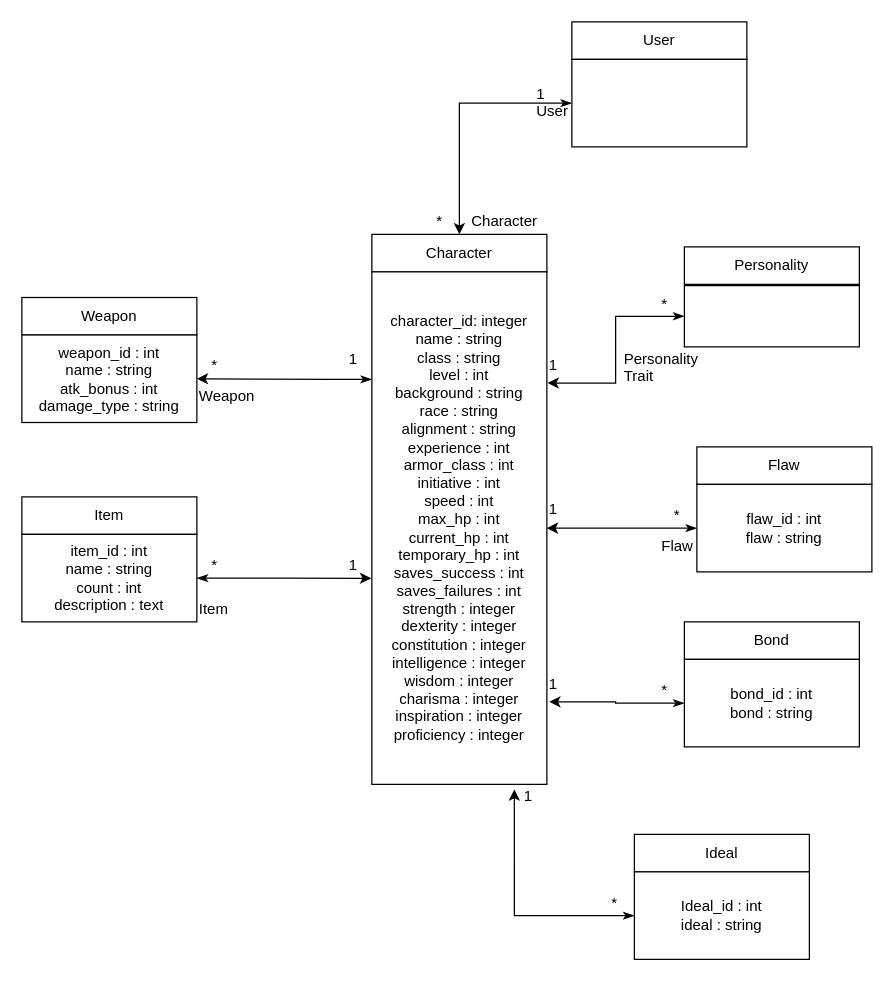
This 894x981 diagram has some shape labels left out. The shapes that lost their labels are listed below. From the top down, each one's box as (x1, y1, x2, y2) in pixels, then its label:
(571, 58, 747, 147): user_id : int email : string password : string
(683, 284, 859, 347): trait_id: int trait: string
